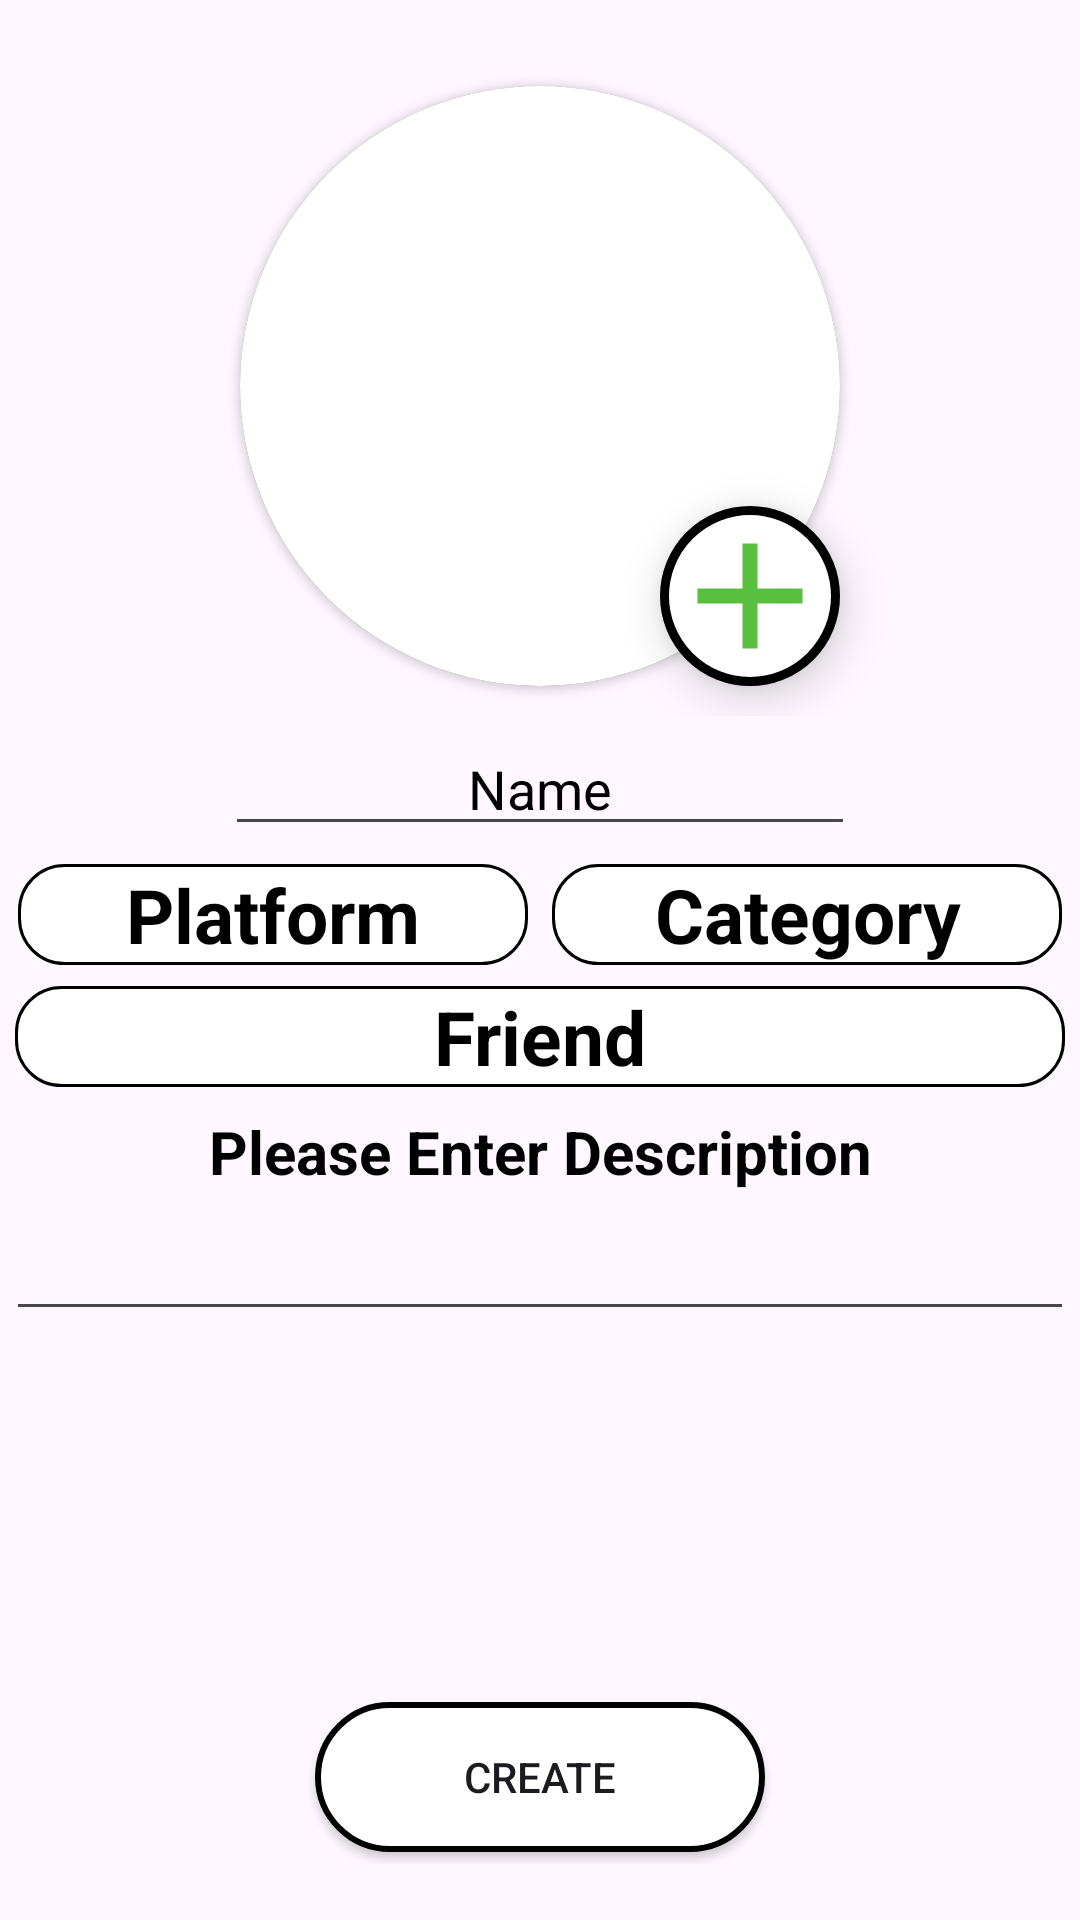

Locate icon controls on the screen. Image size 1080px x 1920px, boxes as bbox=(x1, y1, x2, y2).
add: bbox=(660, 506, 840, 686)
